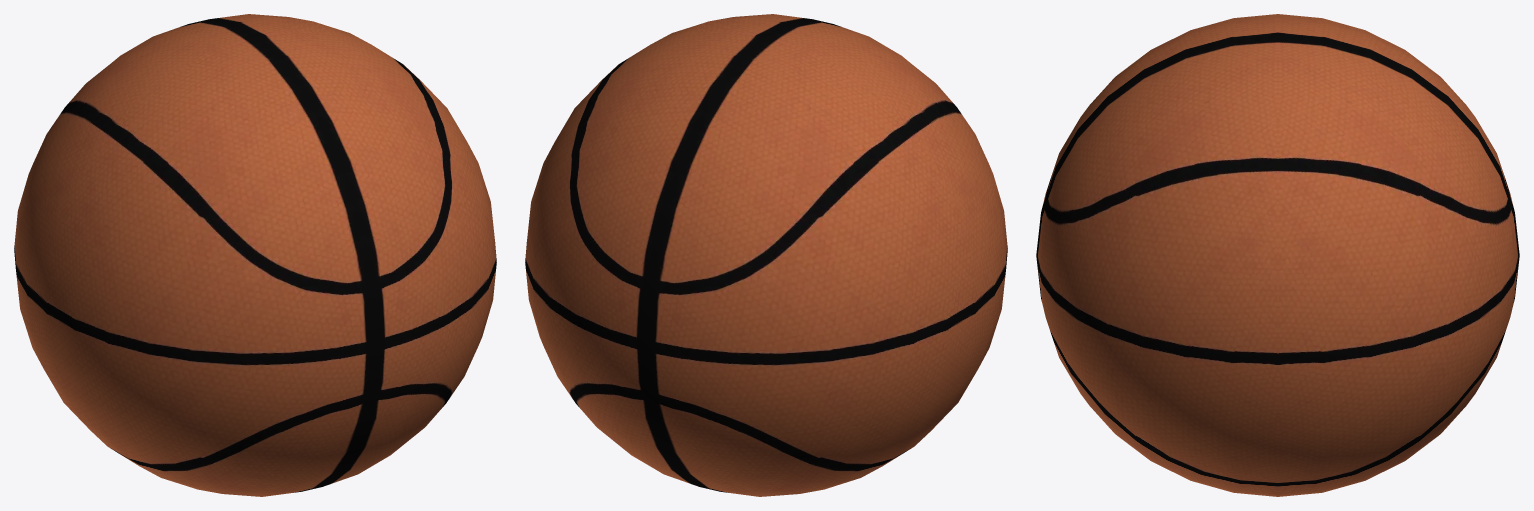
File: sf-basketball.glb
The picture shows the model from 3 angles, left to right: view 1: azimuth 30°, elevation 25°; view 2: azimuth 150°, elevation 25°; view 3: azimuth 270°, elevation 25°; orthographic projection.
Visible parts, largest first — view 1: Cube__0; view 2: Cube__0; view 3: Cube__0.
Boxes of the visible parts, x1=… form: Cube__0: x1=14, y1=14, x2=496, y2=496; Cube__0: x1=525, y1=14, x2=1007, y2=496; Cube__0: x1=1036, y1=14, x2=1519, y2=496.
Size of the model in its own units: 0.24 by 0.24 by 0.24.
Materials: 1 (1 with a texture image).
